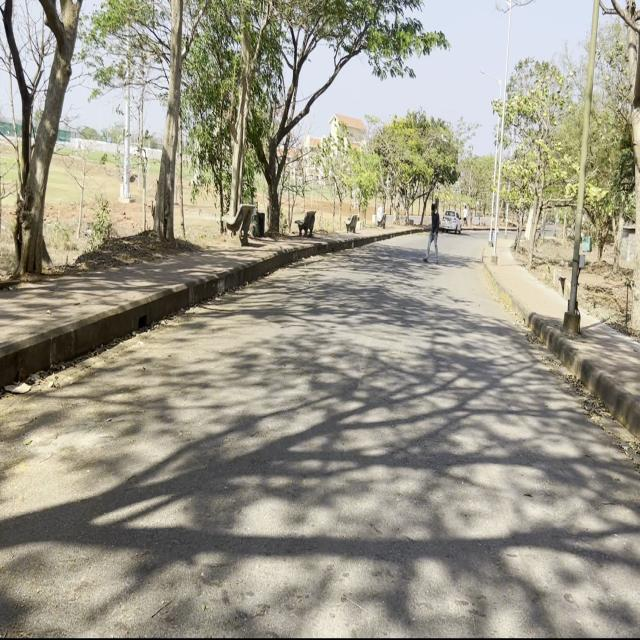Object: (442, 200, 460, 247), (428, 197, 440, 258)
Road: (5, 234, 635, 633)
